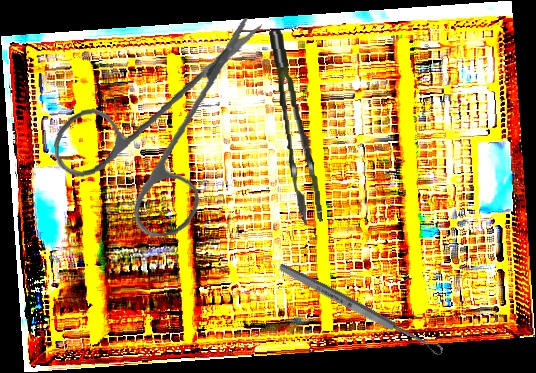Iris Scissors: (44, 16, 280, 245)
Surgical Spoon: (276, 260, 446, 359)
Tissue Forceps: (269, 27, 323, 227)
